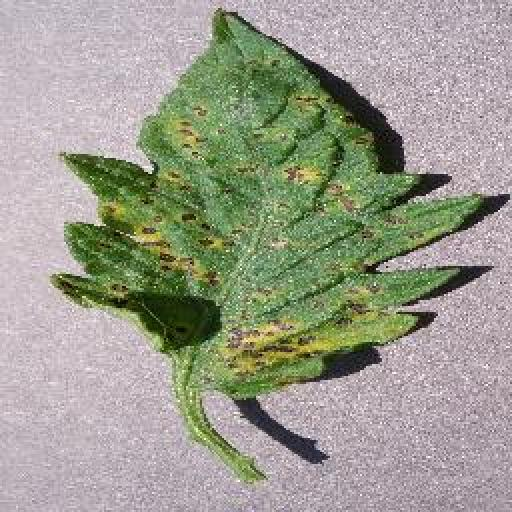Septoria: (51, 8, 483, 408)
